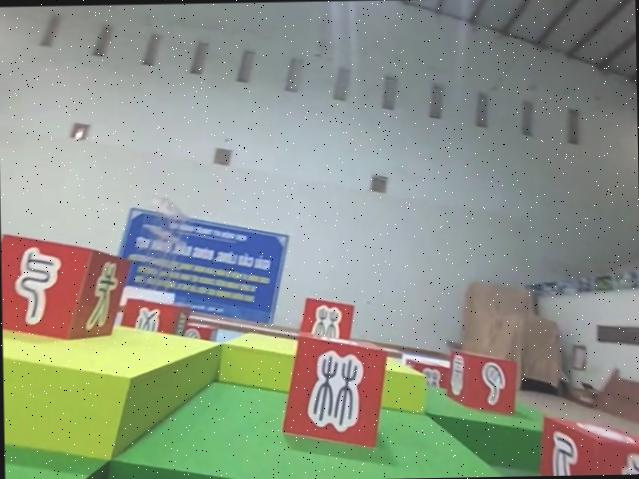R2 Fake: (0, 227, 136, 341), (276, 329, 390, 453), (535, 408, 639, 475), (443, 345, 521, 418), (293, 294, 356, 346)
